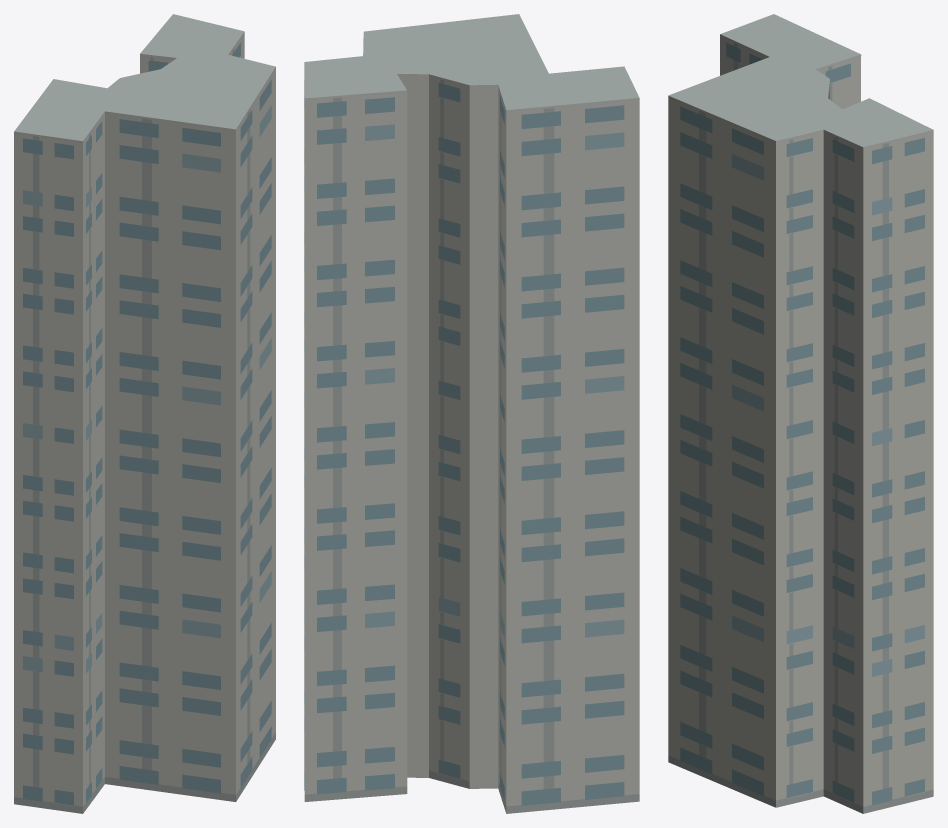
Rendered from residential-7ed5646b-59cc-4551-948d-89e0ac80c63a.glb.
3 renders of one model, left to right at view 1: azimuth 30°, elevation 25°; view 2: azimuth 150°, elevation 25°; view 3: azimuth 270°, elevation 25°, orthographic. The views are drawn at different scales.
Parts seen in each view (by area): view 1: residential-7ed5646b-59cc-4551-948d-89e0ac80c63a.tmp; view 2: residential-7ed5646b-59cc-4551-948d-89e0ac80c63a.tmp; view 3: residential-7ed5646b-59cc-4551-948d-89e0ac80c63a.tmp.
Part boxes in pixels (x1,y1,x2,y2): residential-7ed5646b-59cc-4551-948d-89e0ac80c63a.tmp: (14, 14, 275, 813); residential-7ed5646b-59cc-4551-948d-89e0ac80c63a.tmp: (304, 14, 639, 813); residential-7ed5646b-59cc-4551-948d-89e0ac80c63a.tmp: (668, 14, 933, 813).
Size of the model in its own units: 36.01 by 84 by 30.33.
